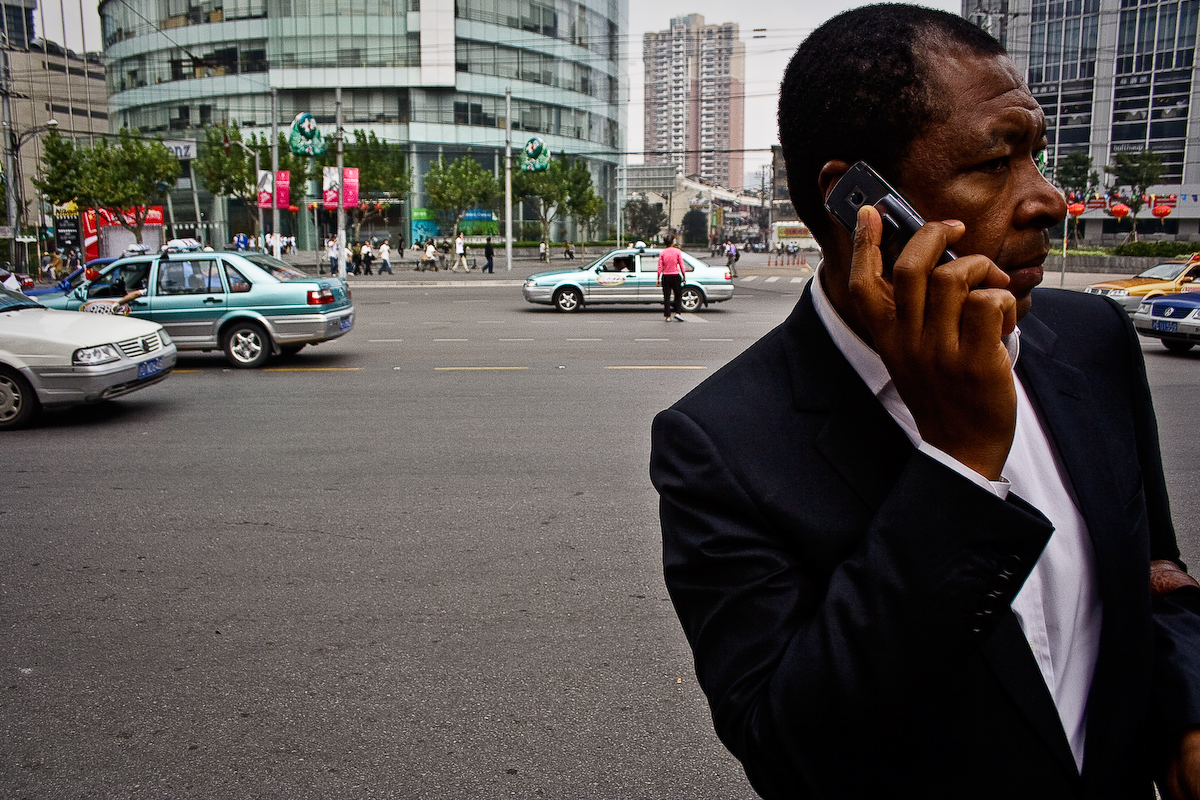phone: (829, 161, 969, 297)
talk: (833, 92, 1080, 417)
